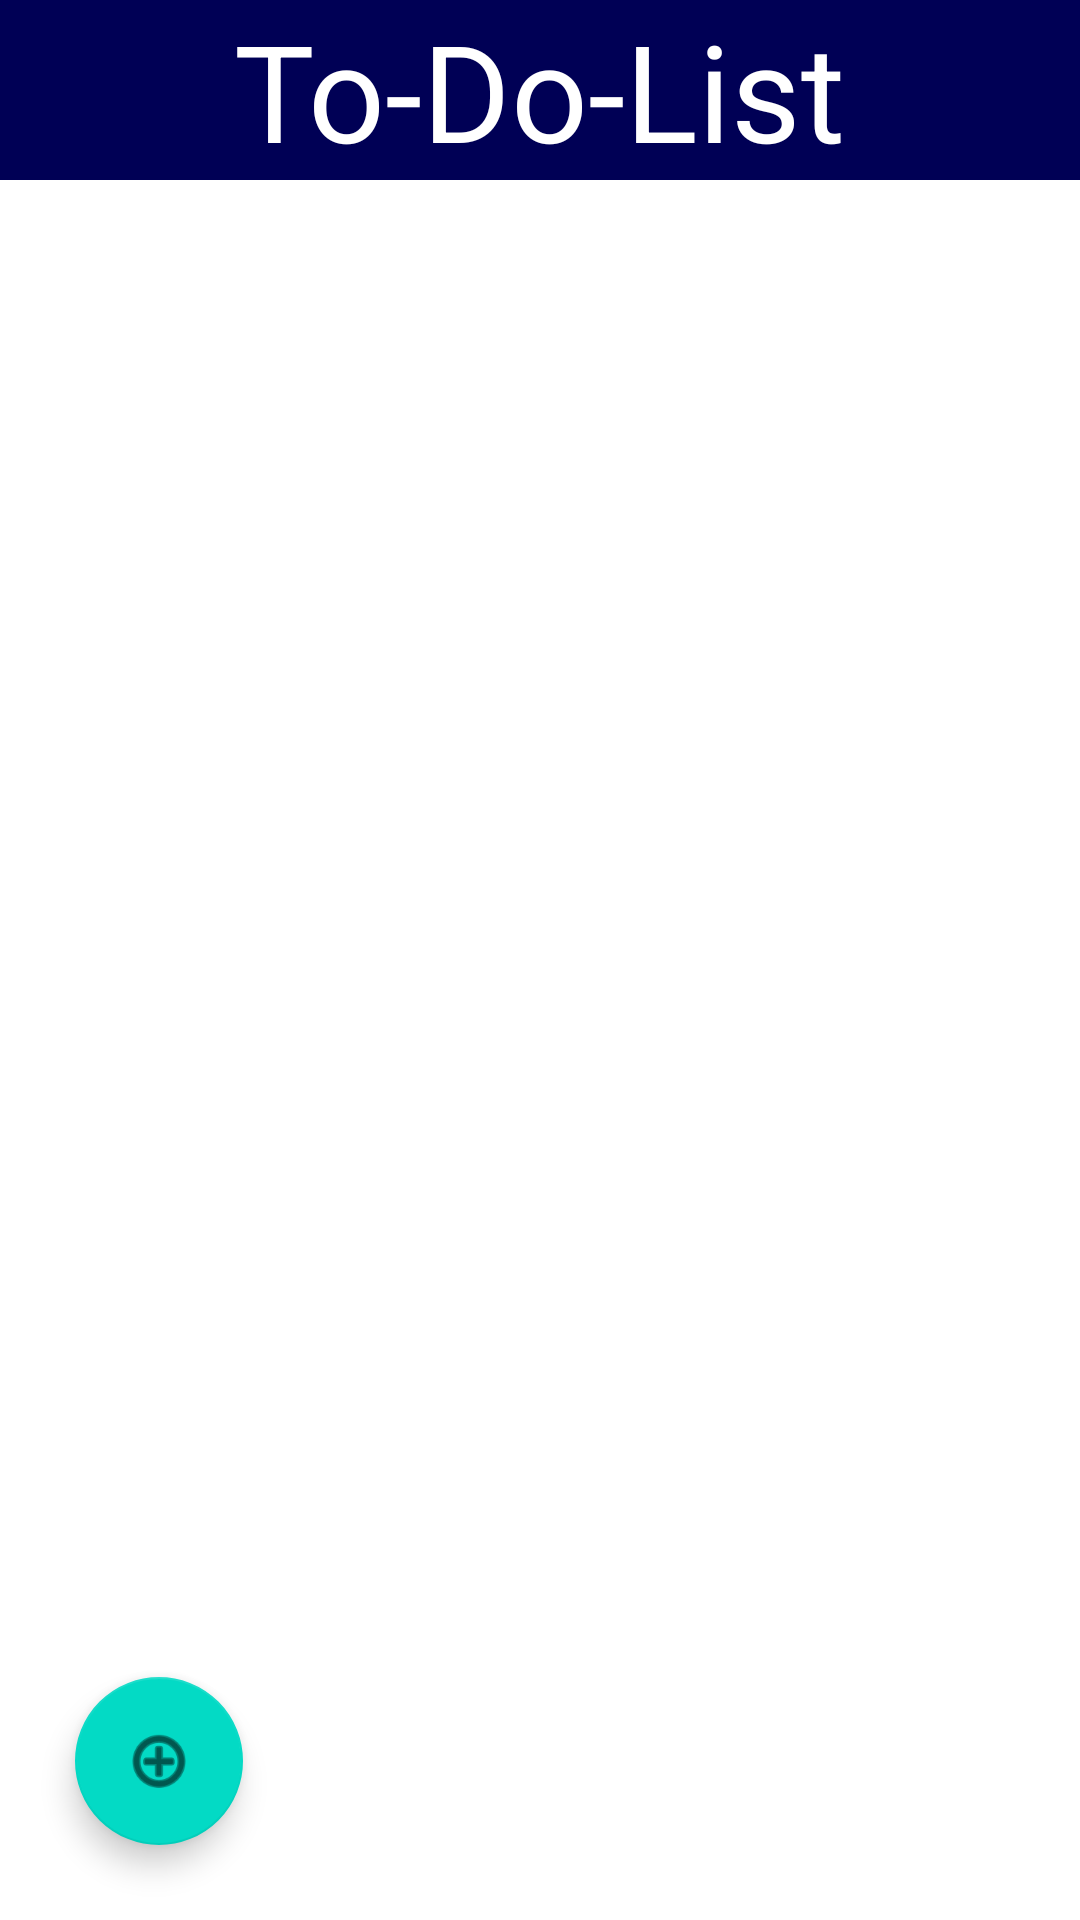

Screen size 1080px×1920px. Icon name, then its box in pixels as (x1, y1, x2, y2):
add: (75, 1677, 243, 1845)
